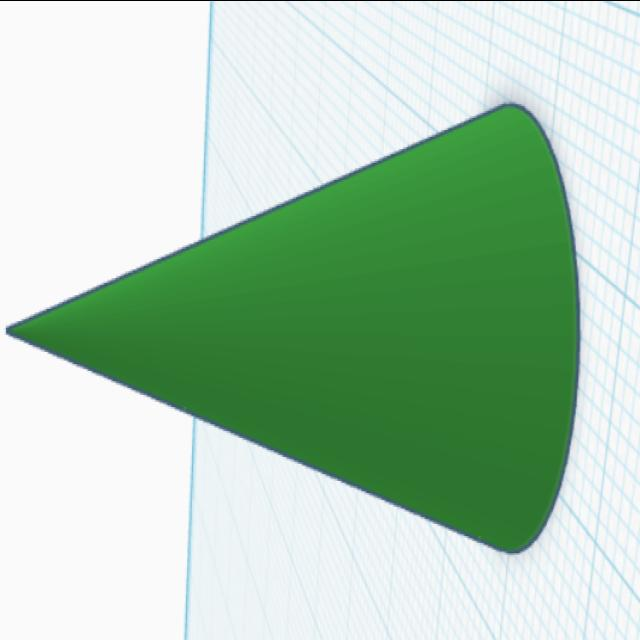cone: (1, 92, 584, 558)
